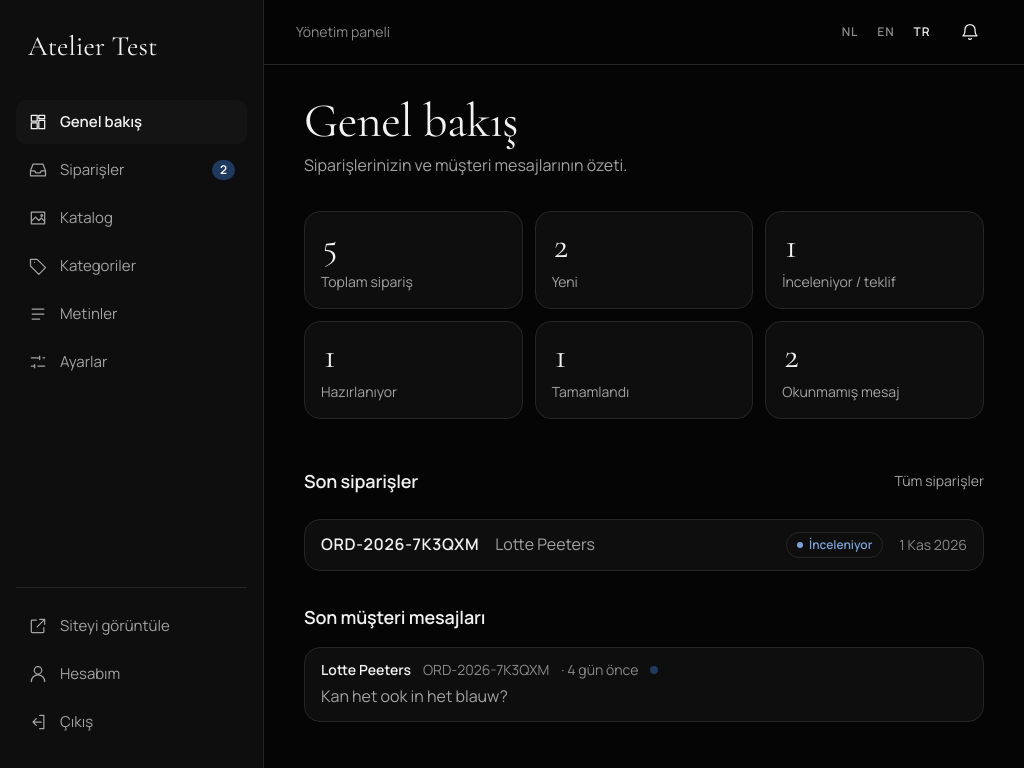
Scenario: dashboard layout › saves the language chosen in the top bar for the artist
Expected: the heading "Genel bakış" is shown, [304,92,518,150]
Click the button with aria-label "English" at (886, 32), box [868,10,904,54]
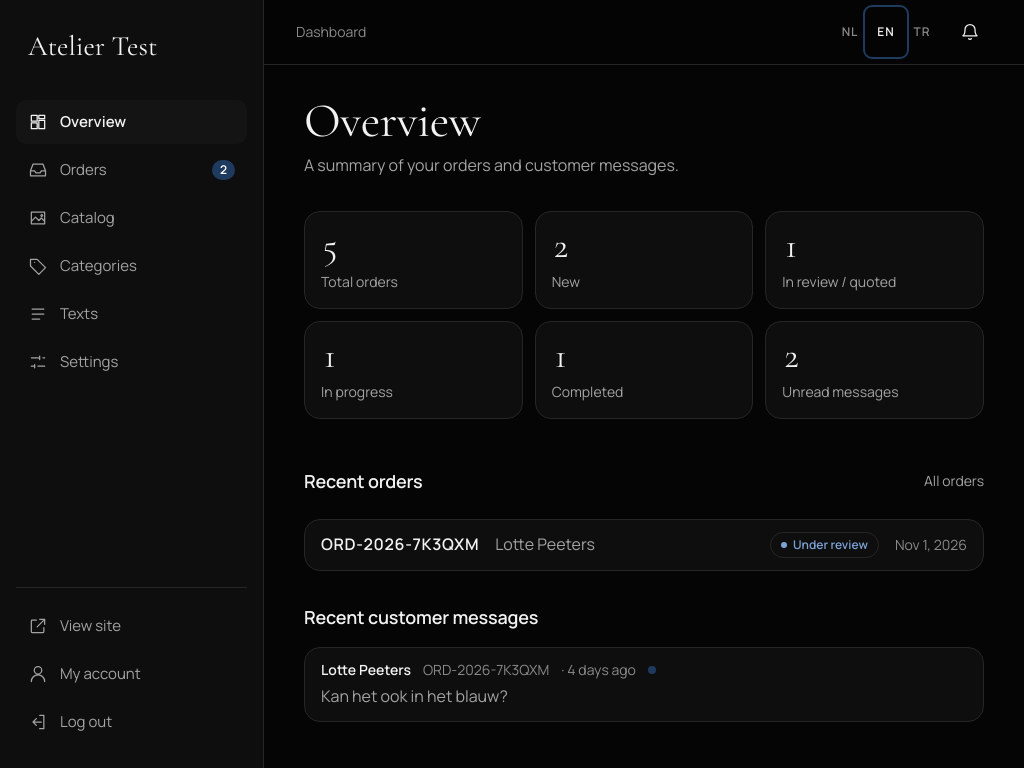
Now the heading "Overview" is shown, box [304,92,480,150]
